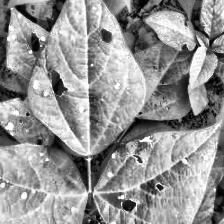Bean Rust: (26, 0, 148, 154), (91, 118, 224, 224), (0, 143, 89, 224), (7, 6, 50, 84), (0, 95, 54, 148)
